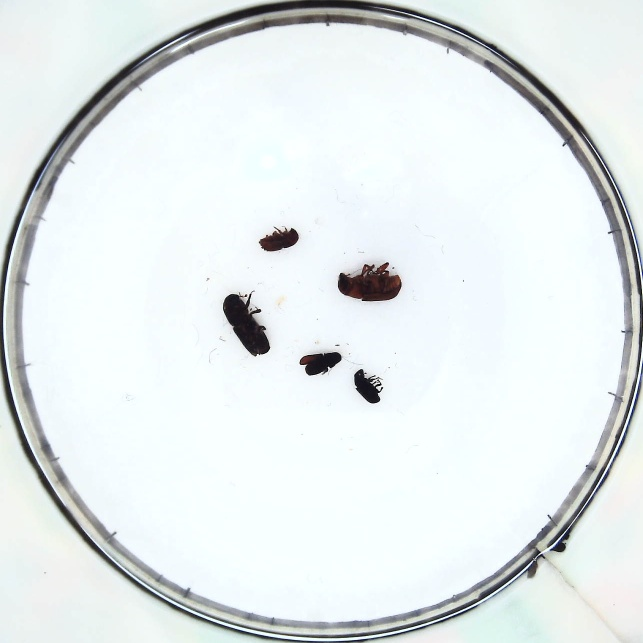armandi: (301, 350, 342, 376)
boerner: (222, 293, 271, 355)
coleoptera: (353, 368, 382, 404)
leconte: (338, 269, 404, 304)
linnaeus: (259, 226, 300, 251)
